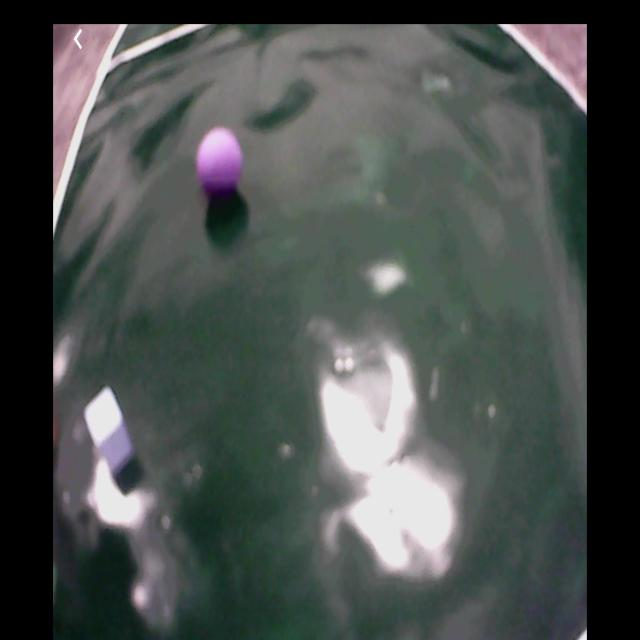ball: (197, 129, 245, 203)
